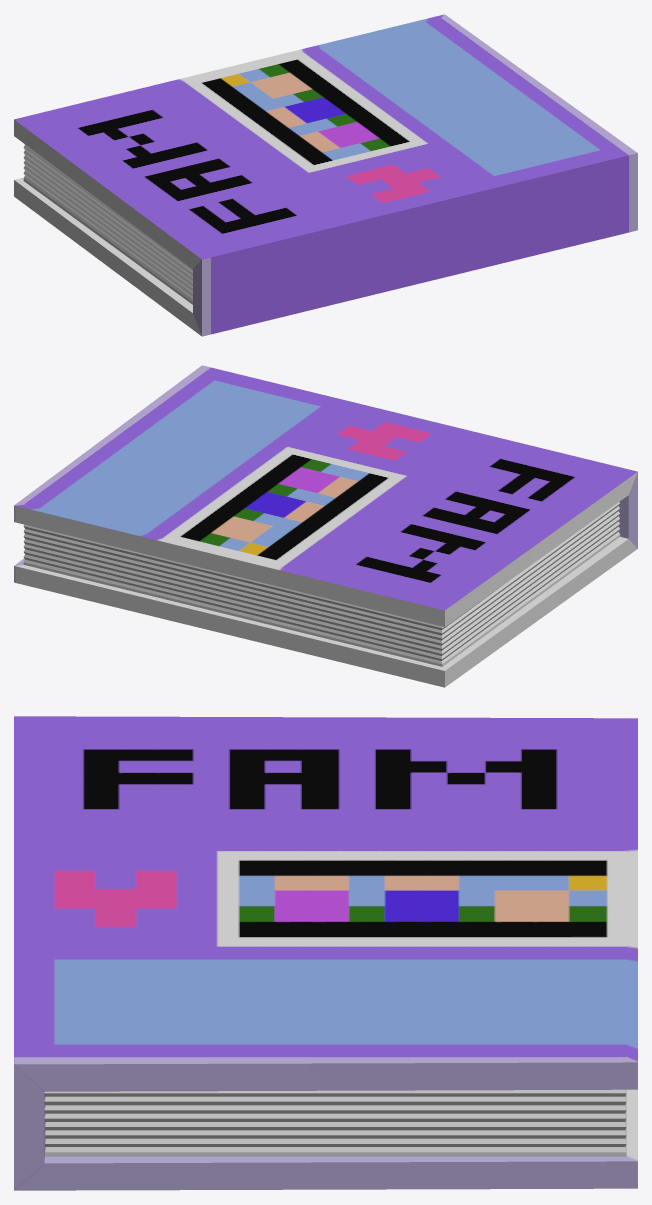
Rendered from FamilyPhotoAlbum.fbx.
The picture shows the model from 3 angles, top to bottom: view 1: azimuth 30°, elevation 25°; view 2: azimuth 150°, elevation 25°; view 3: azimuth 270°, elevation 25°; orthographic projection. The views are drawn at different scales.
Parts seen in each view (by area): view 1: Bake.003; view 2: Bake.003; view 3: Bake.003.
Part boxes in pixels (x1,y1,x2,y2): Bake.003: (14, 14, 637, 336); Bake.003: (14, 365, 637, 687); Bake.003: (14, 716, 637, 1190).
Size of the model in its own units: 1975 by 334 by 1496.
Materials: 11 (1 with a texture image).
